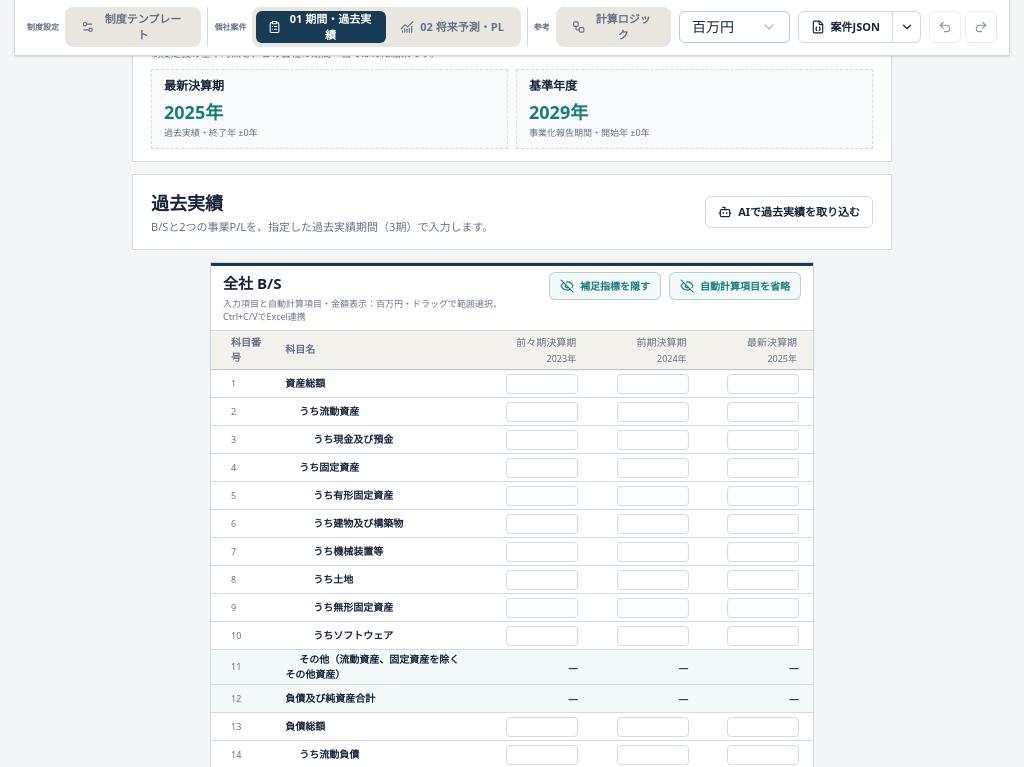
Scenario: 案件JSONを読み込む前後の過去実績 › 編集中にサンプルデータを読み込む前に確認し、キャンセル時は既存値を維持する
(page scrolled)
Type "123" into the number field named "全社 B/S 2023年 資産総額" at (542, 384), box [506,374,578,394]
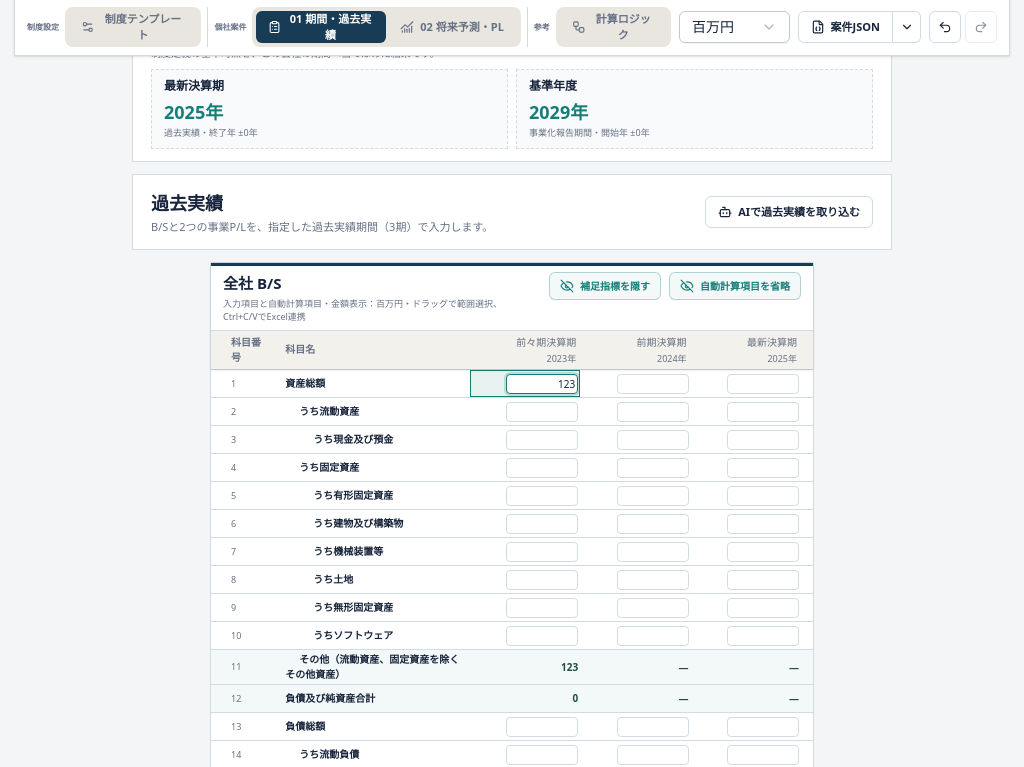
Press Tab
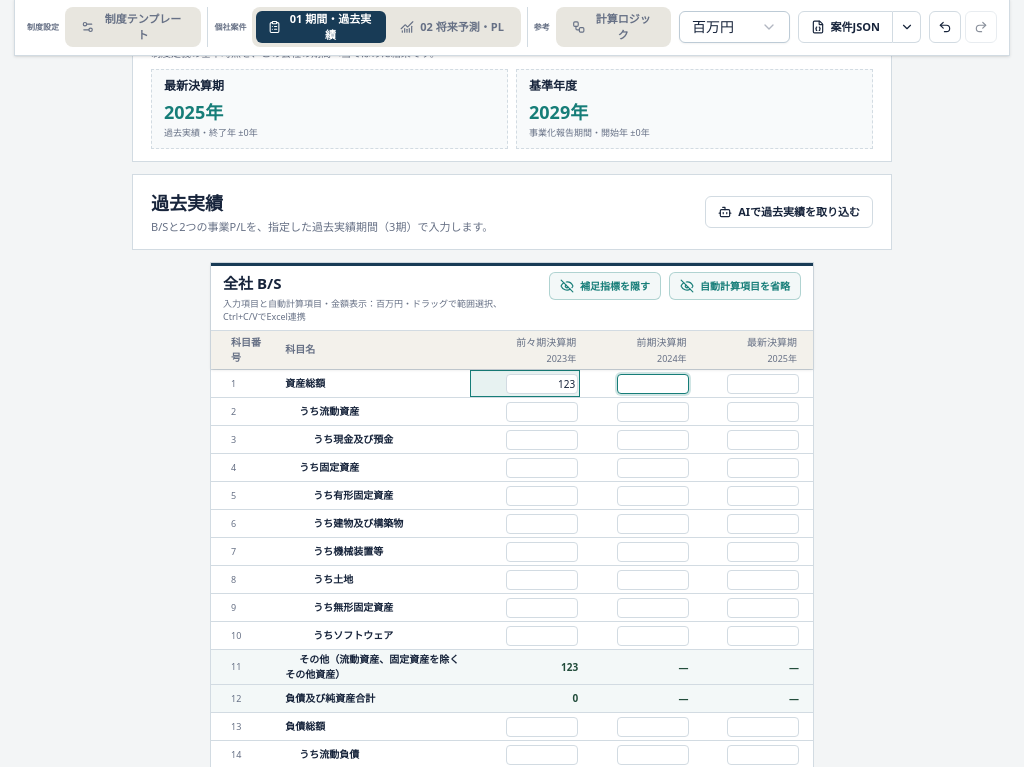
Click the button named "案件JSONメニュー" at (907, 27), box [893,11,921,43]
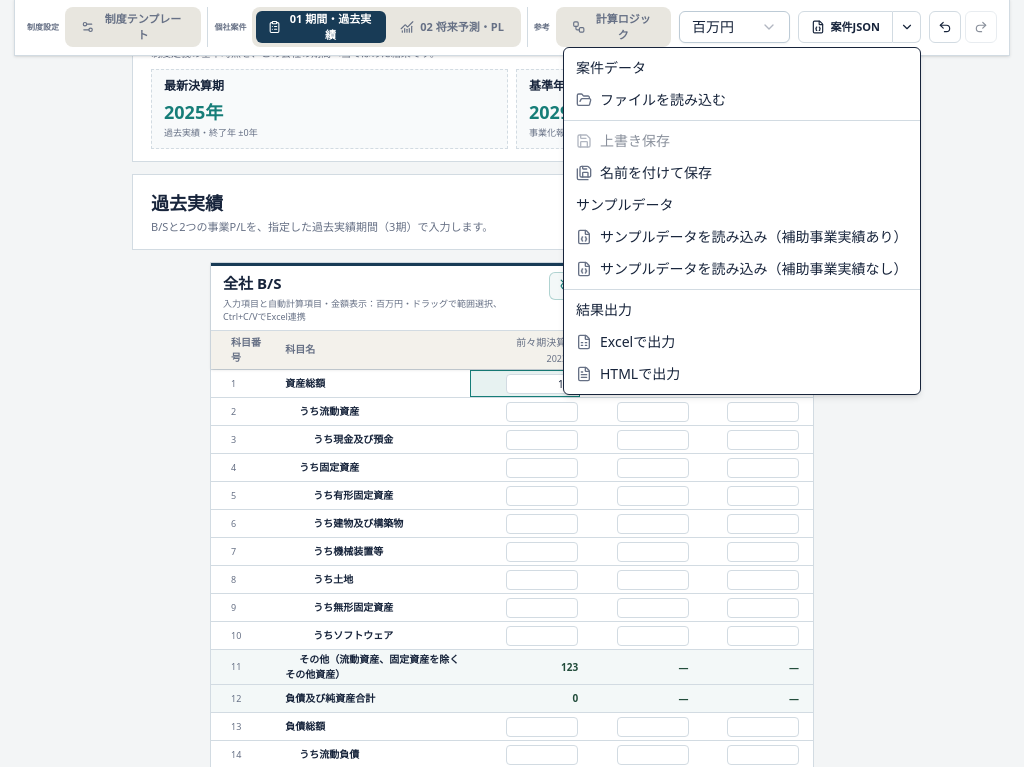
Now the menu item "上書き保存" is shown, box [576,131,670,150]
Now the menu item "名前を付けて保存" is shown, box [576,163,712,182]
Now the text "案件データ" is shown, box [576,58,646,77]
Click the menu item "サンプルデータを読み込み（補助事業実績あり）" at (742, 236), box [576,227,908,246]
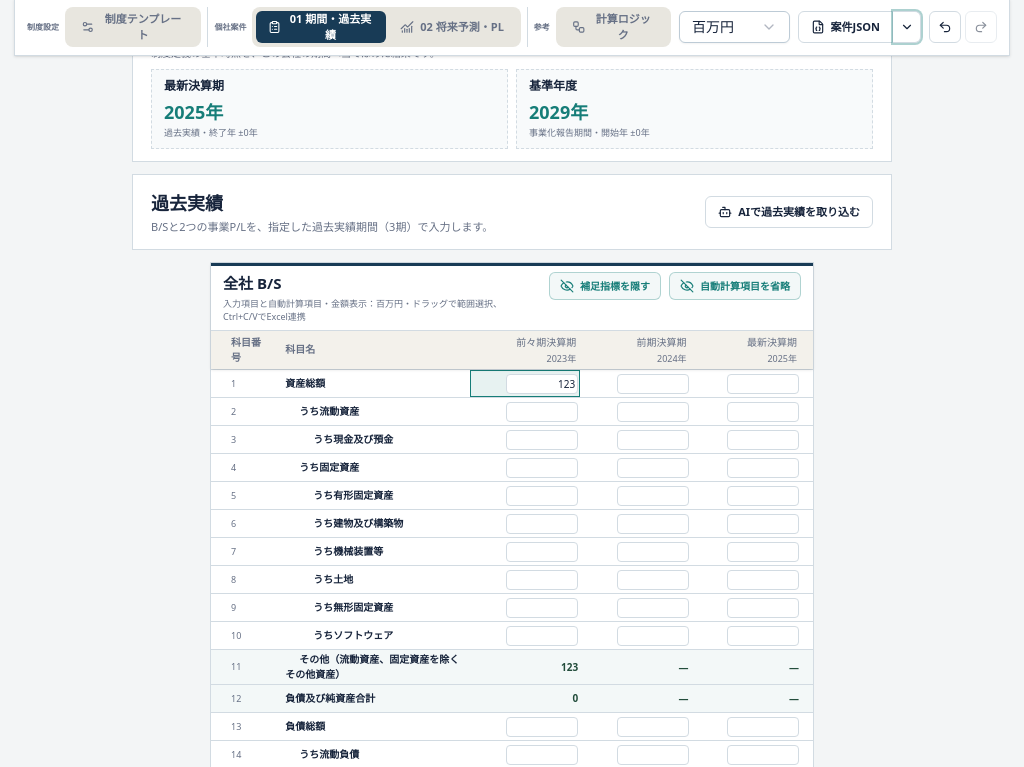
Click the button named "案件JSONメニュー" at (907, 27), box [893,11,921,43]
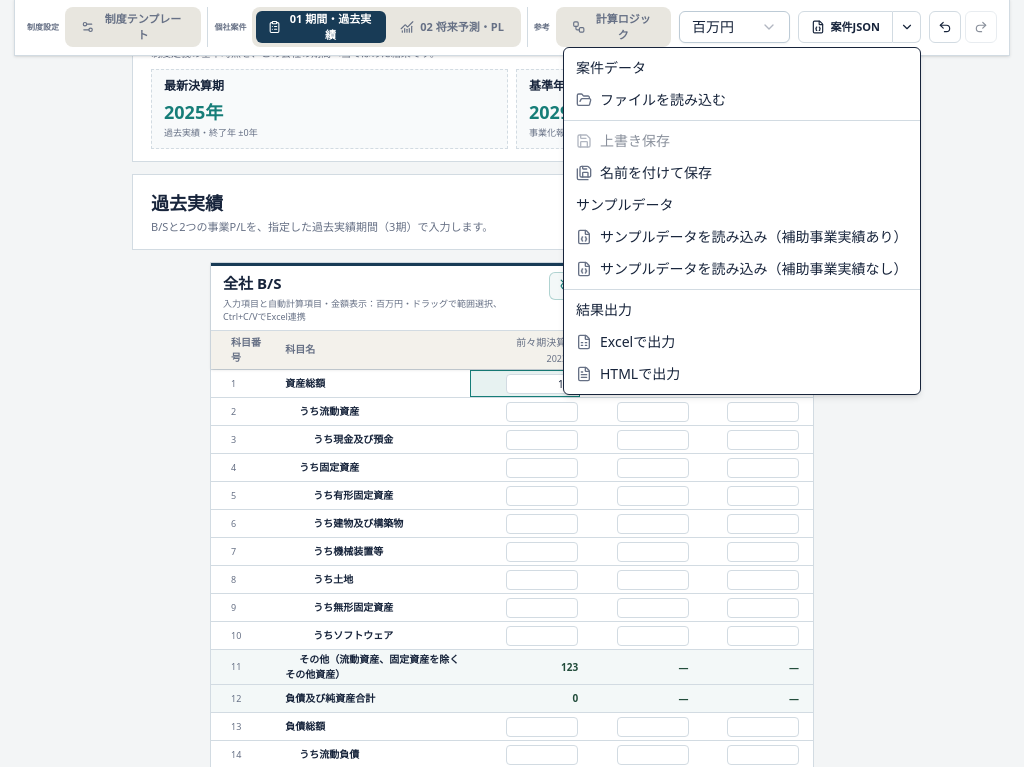
Click the menu item "サンプルデータを読み込み（補助事業実績あり）" at (742, 236), box [576,227,908,246]
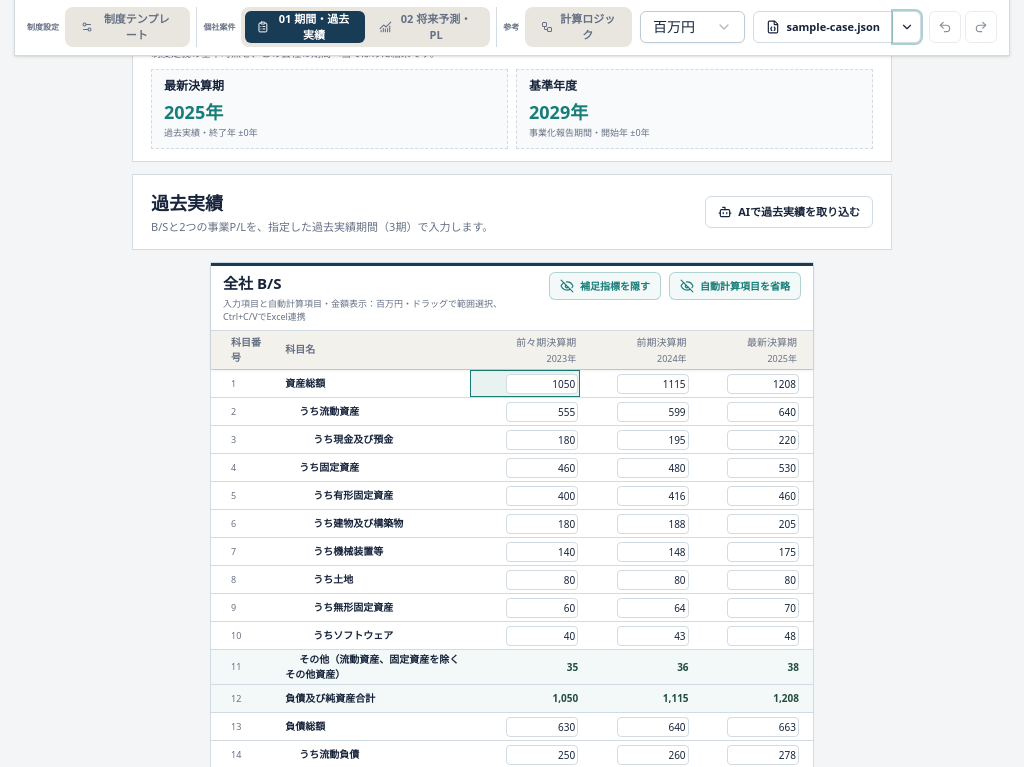
Now the number field named "全社 B/S 2023年 資産総額" holds "1050", box [506,374,578,394]
